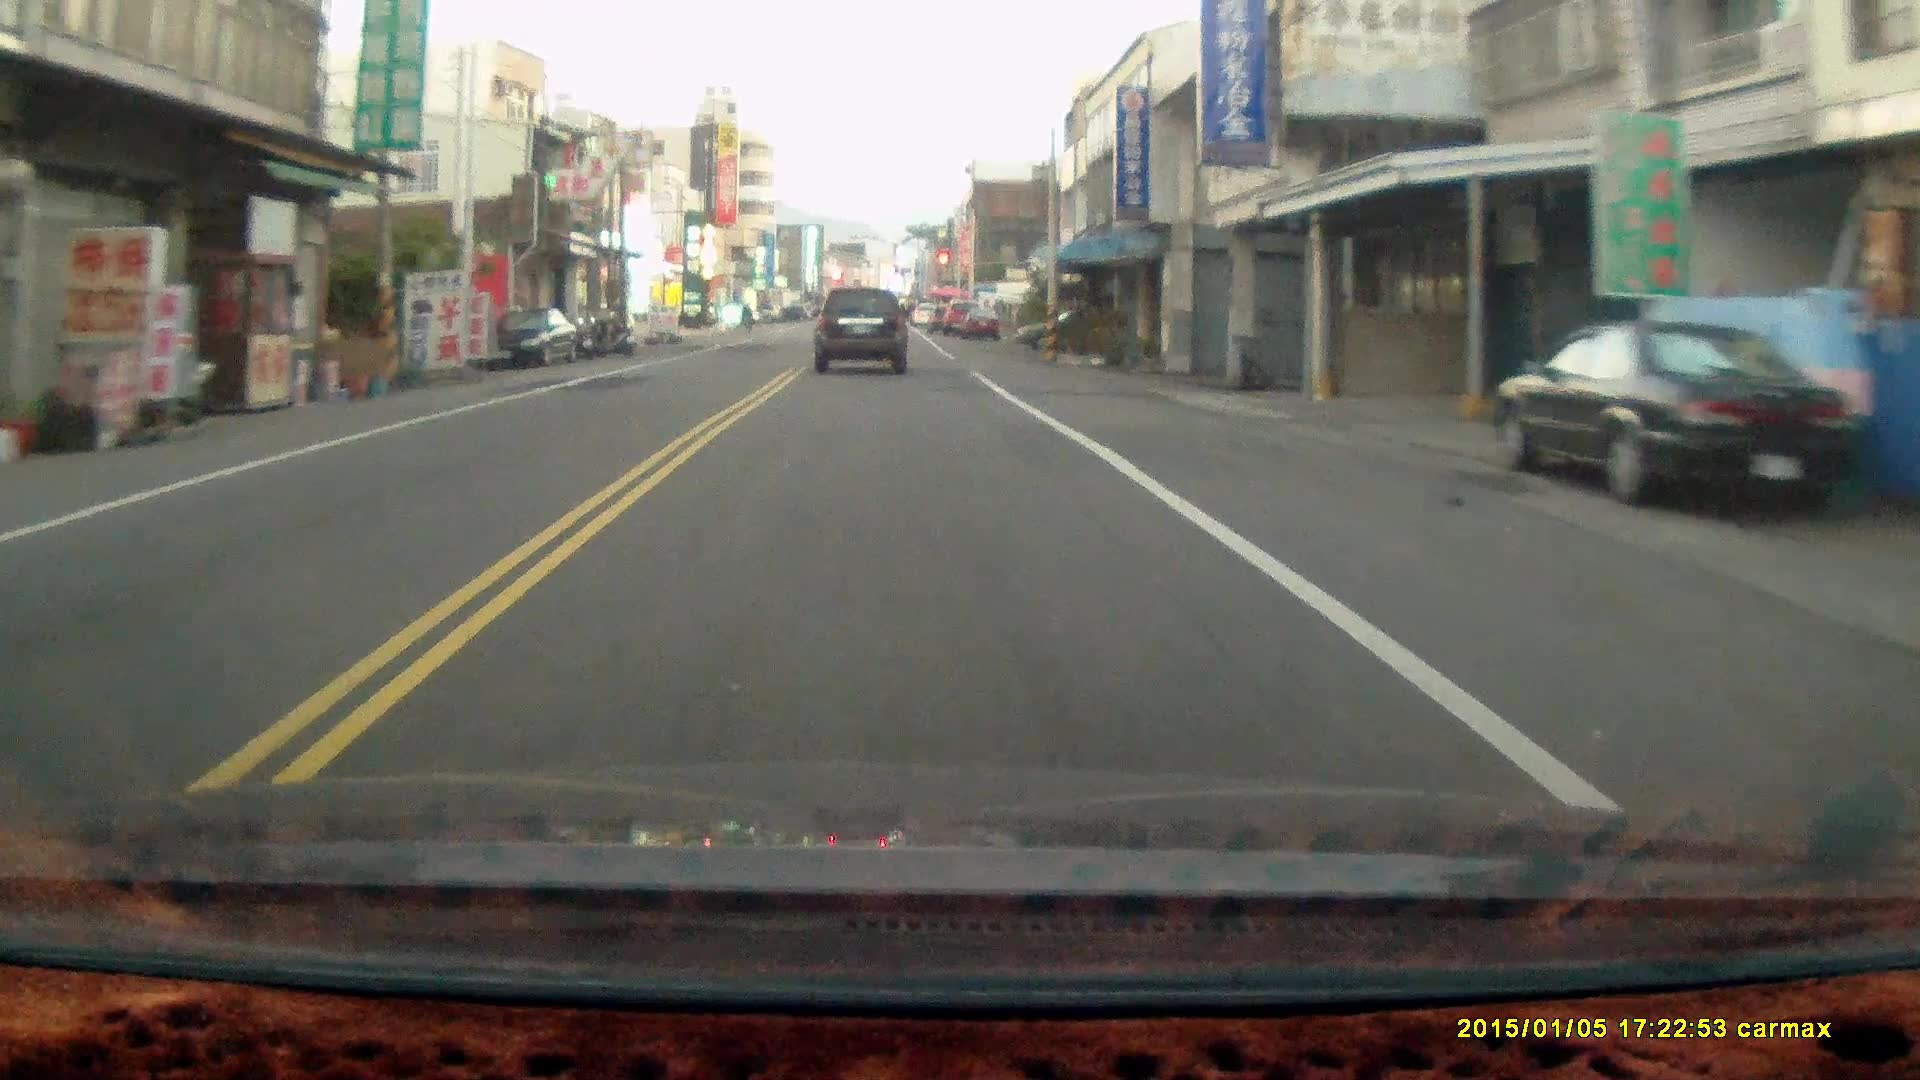vehicle: (1491, 316, 1876, 521), (814, 287, 910, 378)
